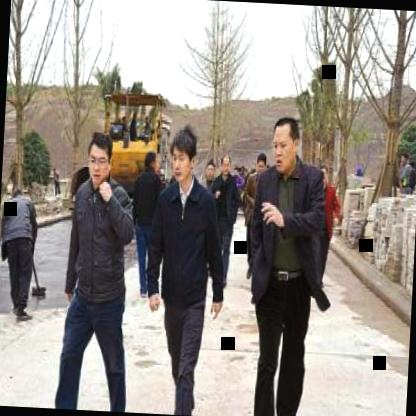head: (267, 110, 303, 172), (168, 124, 200, 190), (83, 128, 115, 185), (142, 148, 160, 176), (219, 151, 235, 180), (254, 149, 268, 178), (203, 157, 217, 184)
